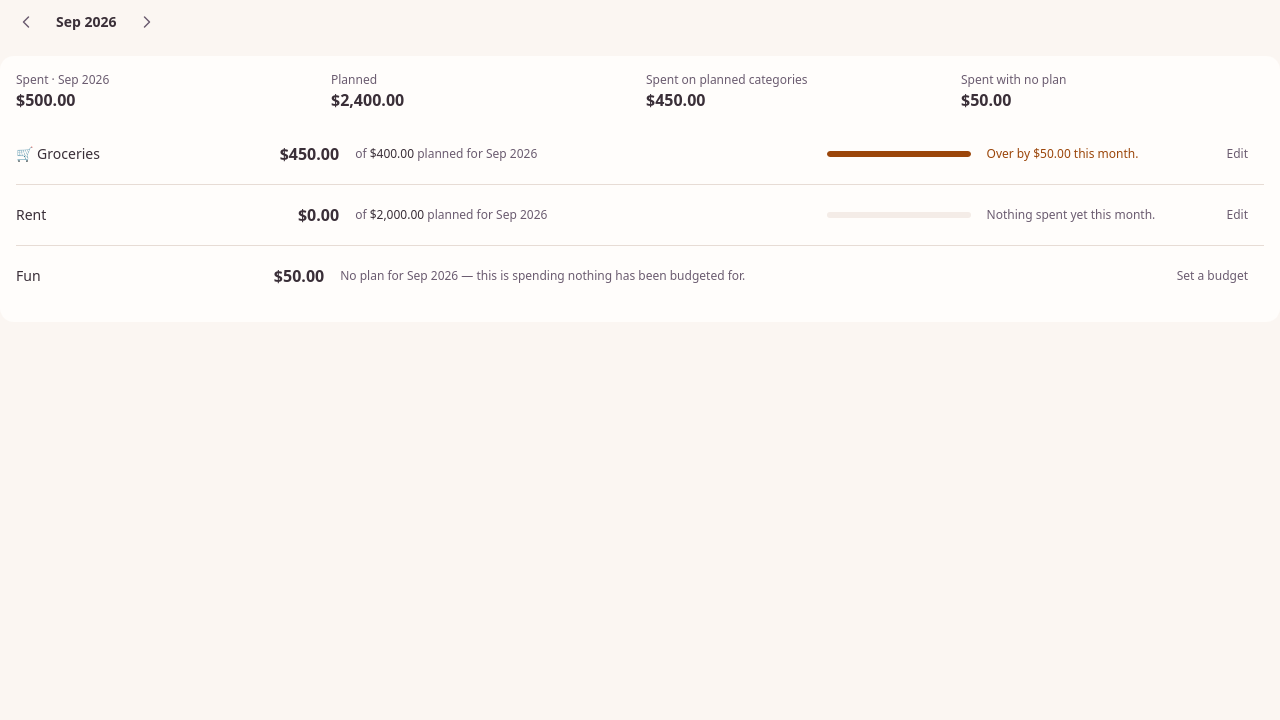
Test: the budgets tab › opens a plan dialog clean, and refuses an empty amount on Save
Click the button with test id "budget-edit-cat-fun" at (1212, 276), box top-left (1161, 254), bottom-right (1264, 298)
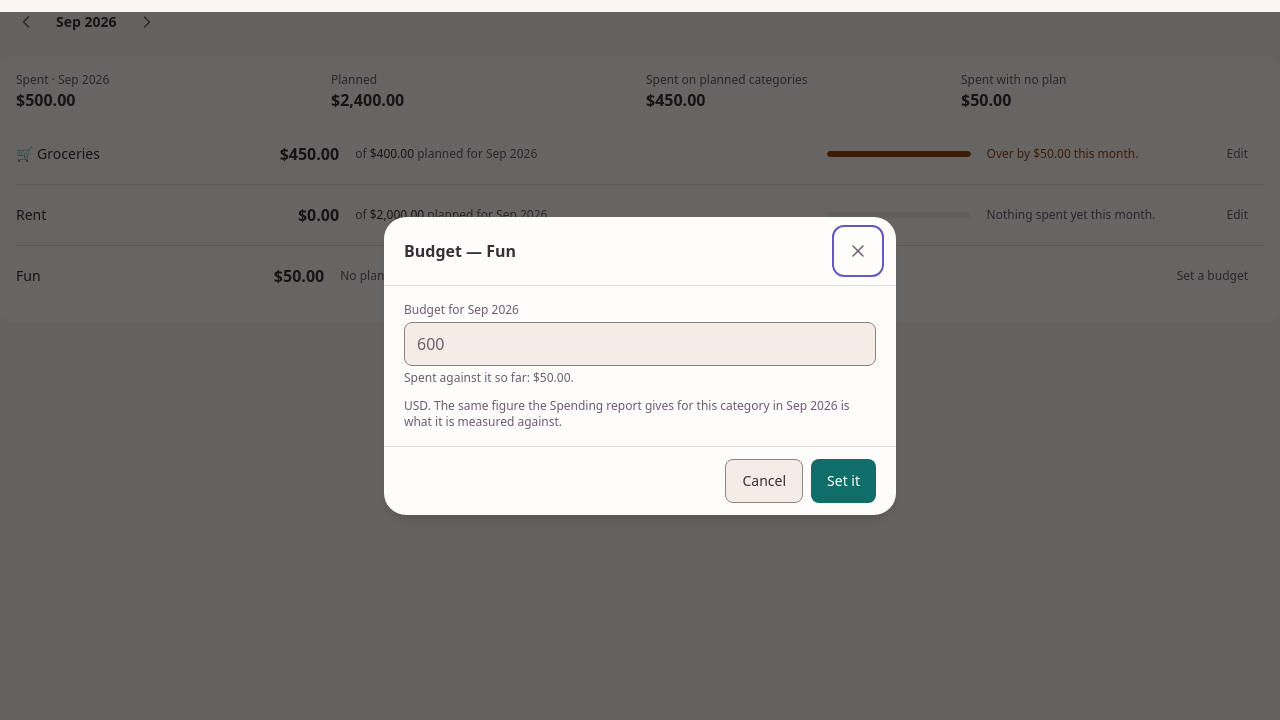
Click the button with test id "budget-save-cat-fun" at (844, 481), box top-left (811, 459), bottom-right (876, 503)
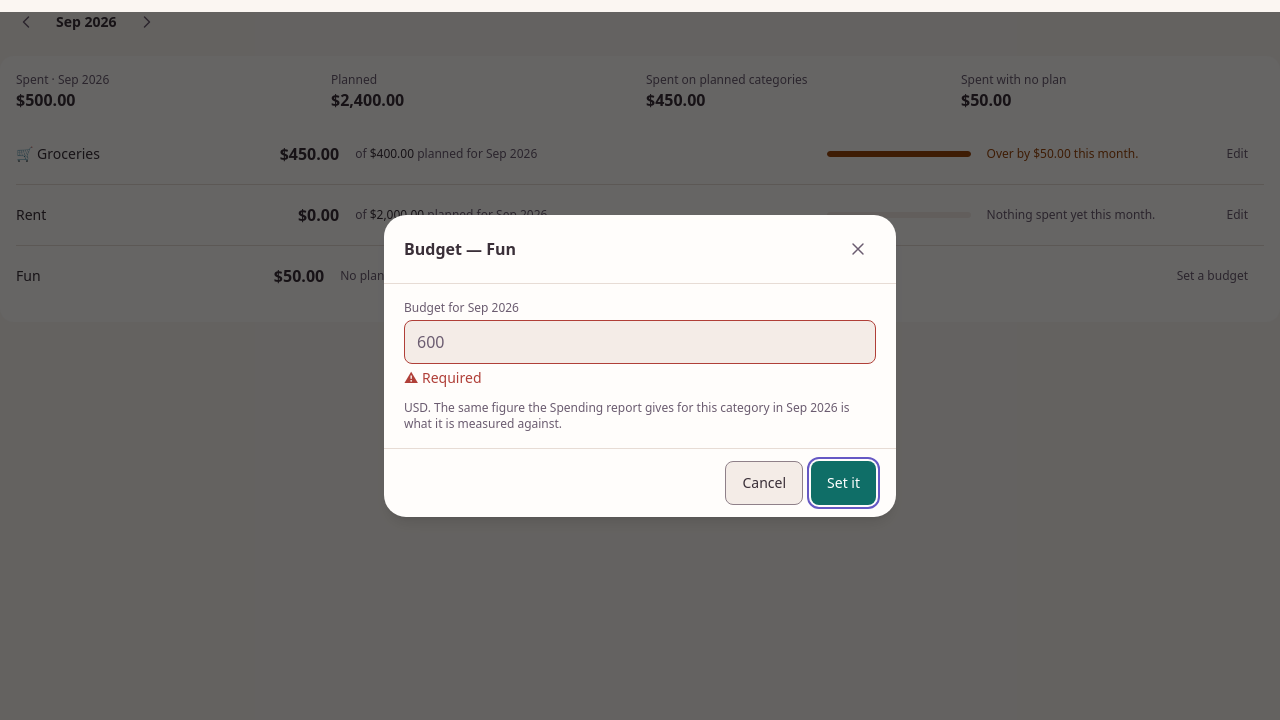
Expected: the message shows "Required", top-left (422, 368), bottom-right (482, 387)
